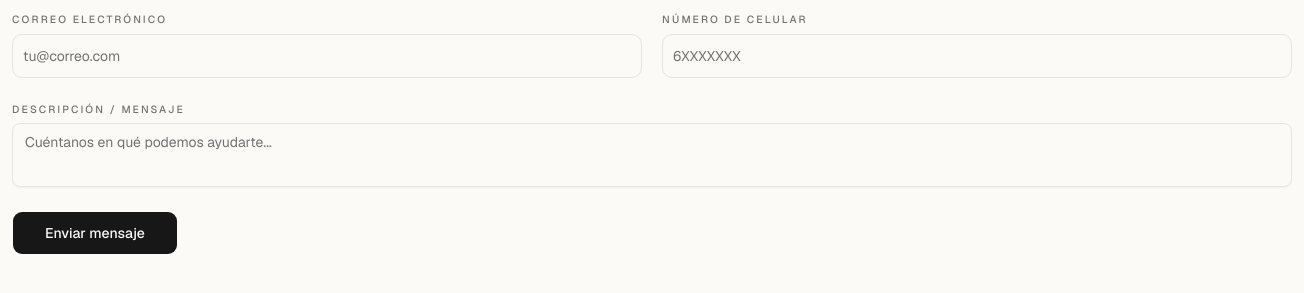
it: ContactForm — validaciones › muestra error con mensaje muy corto
Type "usuario@ejemplo.com" into the field labelled "Correo electrónico" at (327, 56), box [12, 34, 642, 78]
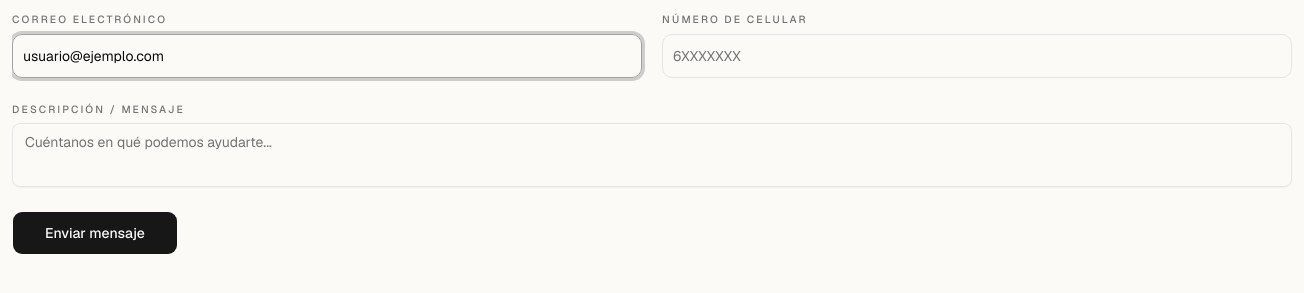
Type "61234567" into the field labelled "Número de celular" at (977, 56), box [662, 34, 1292, 78]
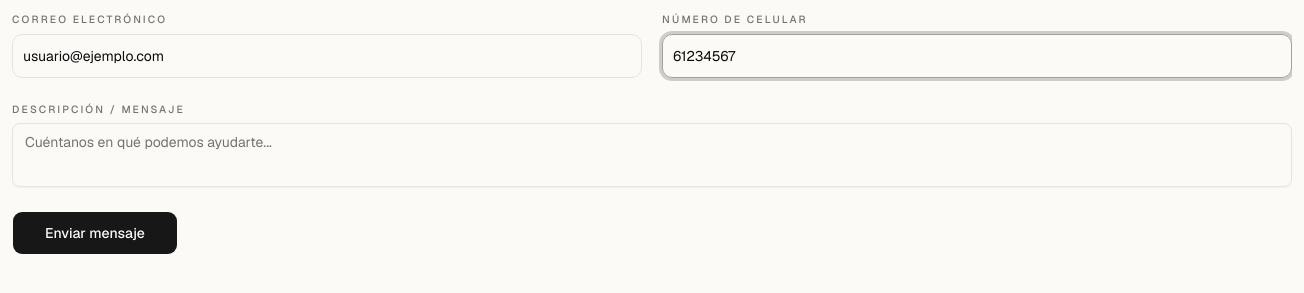
Type "Corto" into the text box labelled "Descripción / Mensaje" at (652, 155), box [12, 123, 1292, 187]
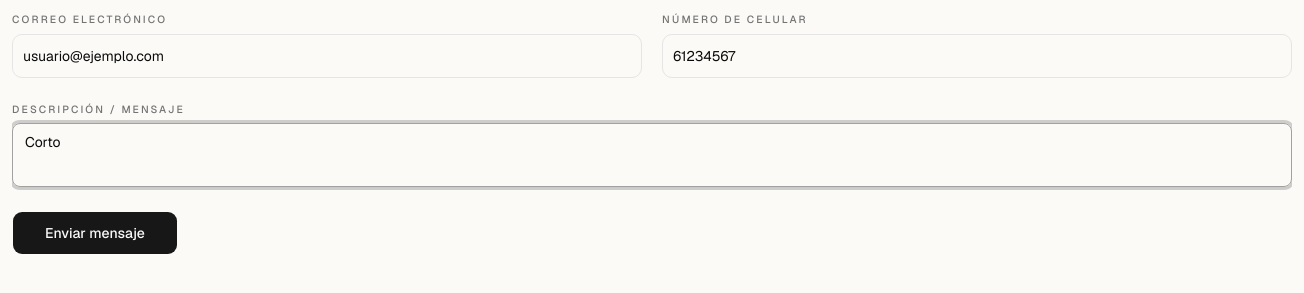
Click the button "Enviar mensaje" at (95, 233), box [12, 211, 178, 255]
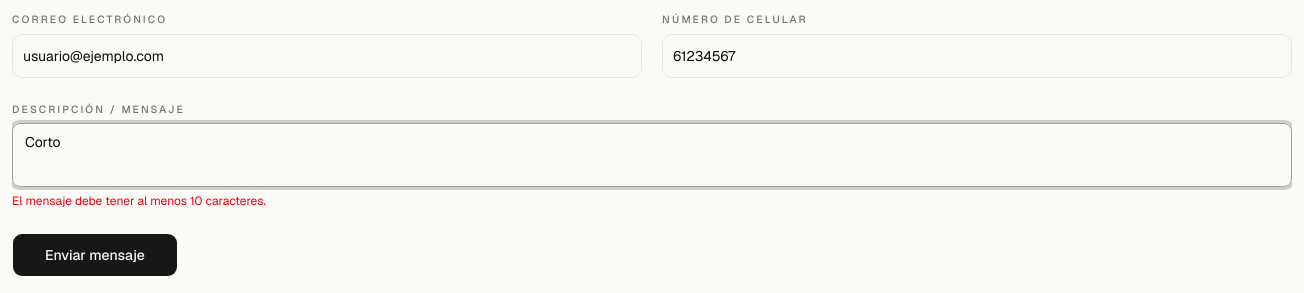
Expected: the text "El mensaje debe tener al menos 10 caracteres." is shown, [12, 193, 266, 209]
